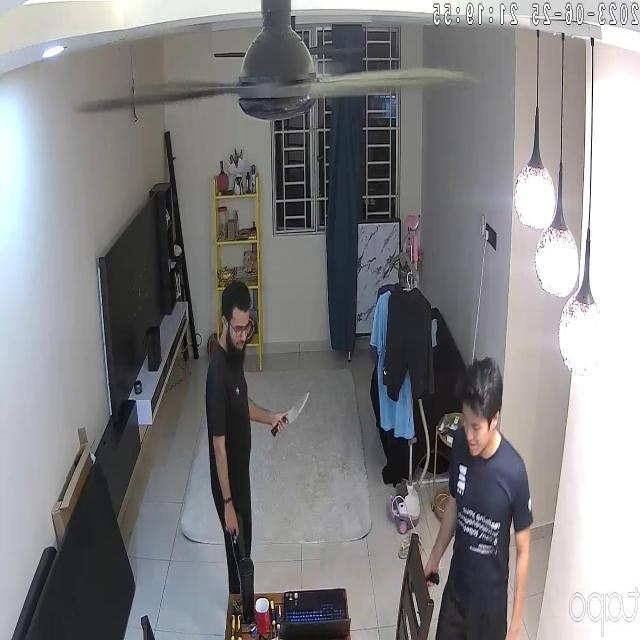Knife: (268, 376, 322, 454)
